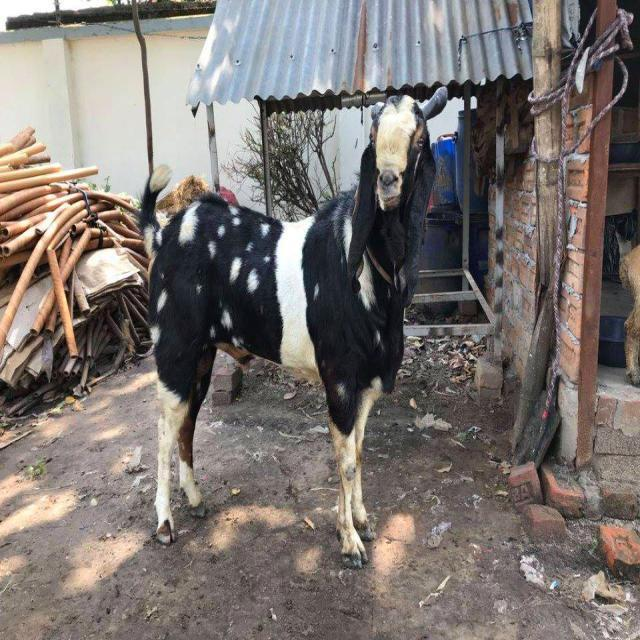Goat: (136, 85, 450, 569), (618, 243, 640, 386)
